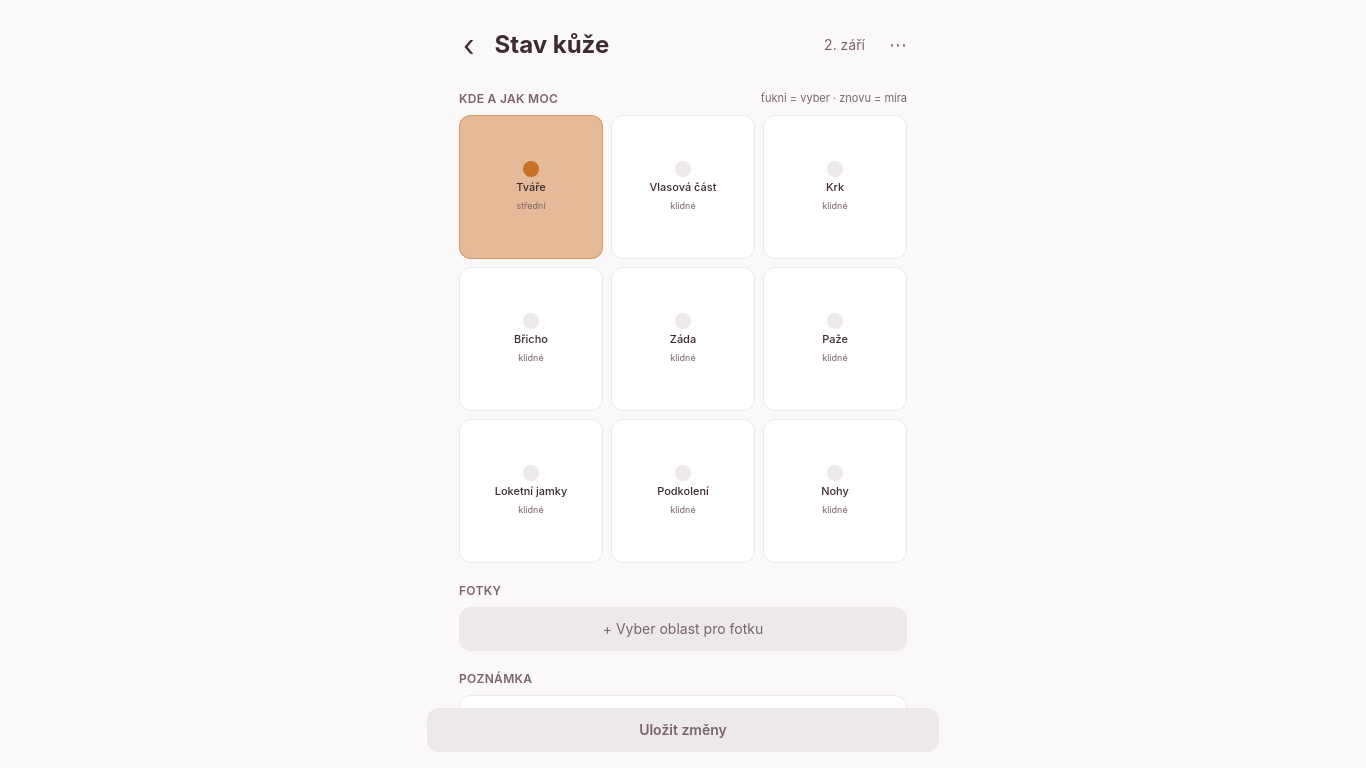
Test: skin/+page.svelte — region grid › tapping overflow opens the ConfirmSheet with danger-variant confirm
Expected: the text box showing "itchy" is shown, [459,694,907,762]
Click the button with test id "skin-overflow" at (898, 45), box [881,36,915,54]
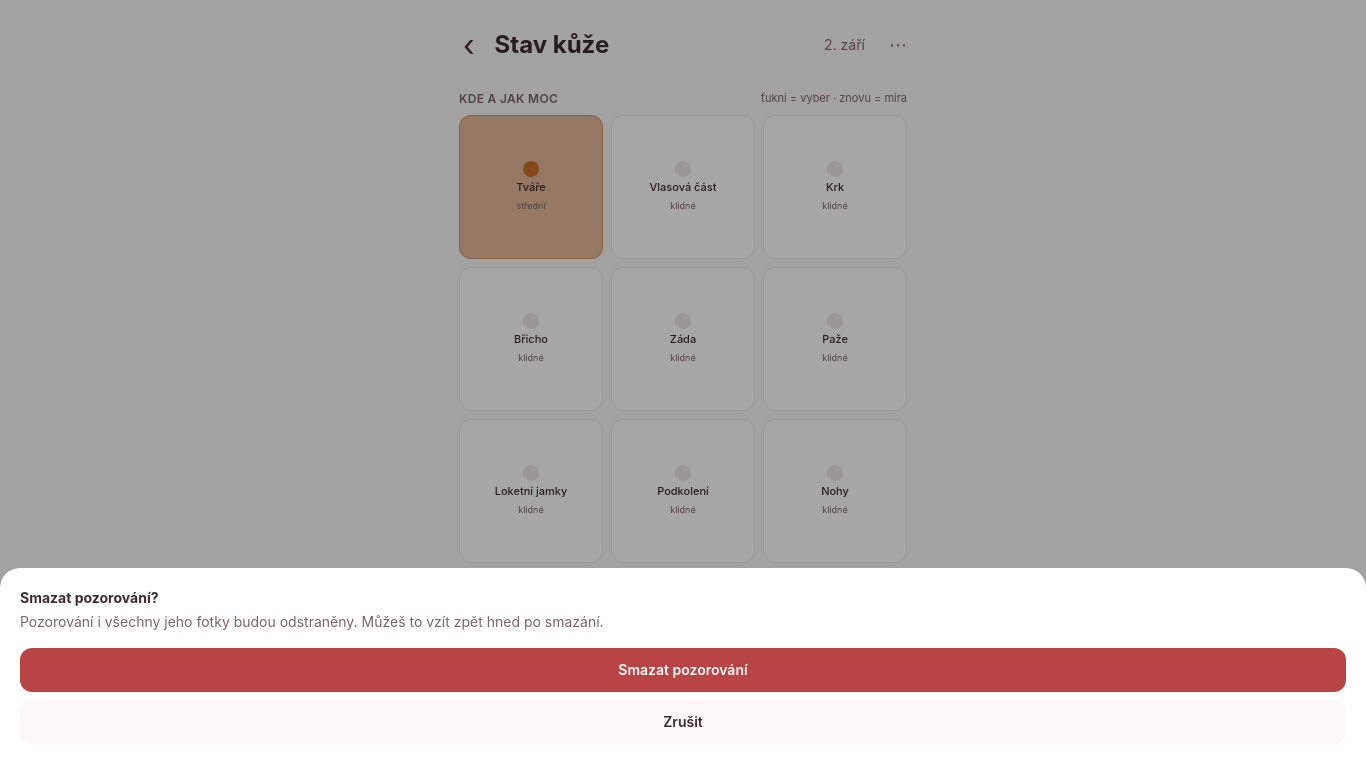
Result: the element with test id "confirm-sheet-backdrop" is shown
Result: the button "Smazat pozorování" is shown at [20,648,1346,692]
